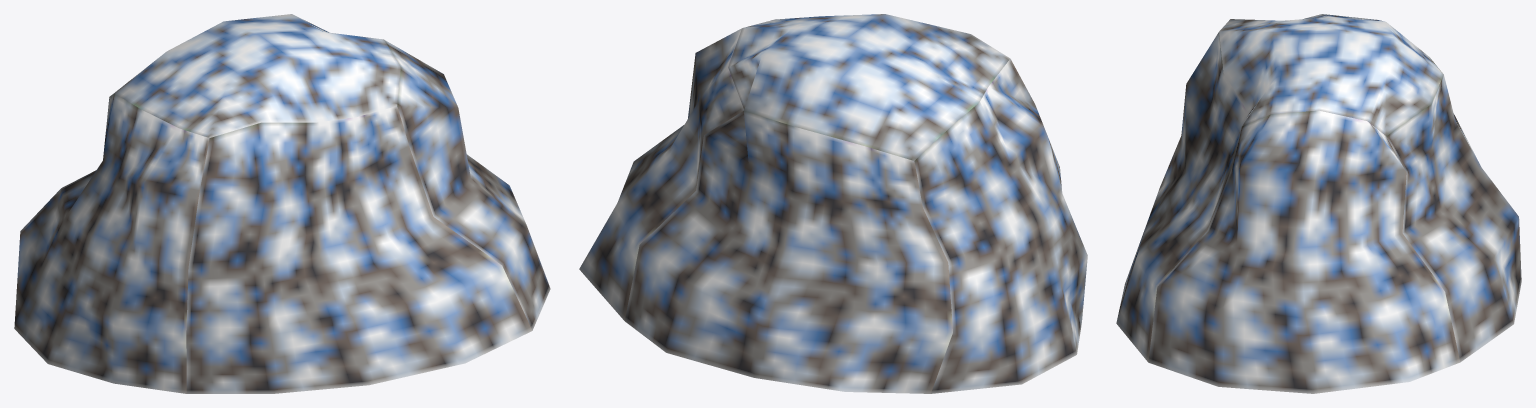
Rendered from large_snowy_Rock.fbx.
The picture shows the model from 3 angles, left to right: view 1: azimuth 30°, elevation 25°; view 2: azimuth 150°, elevation 25°; view 3: azimuth 270°, elevation 25°; orthographic projection. The views are drawn at different scales.
Visible parts, largest first — view 1: large_snowy_Rock; view 2: large_snowy_Rock; view 3: large_snowy_Rock.
Boxes of the visible parts, x1,y1,x2,y2 form: large_snowy_Rock: [14, 14, 550, 393]; large_snowy_Rock: [579, 14, 1087, 393]; large_snowy_Rock: [1116, 14, 1521, 393].
Size of the model in its own units: 3.45 by 1.95 by 2.78.
